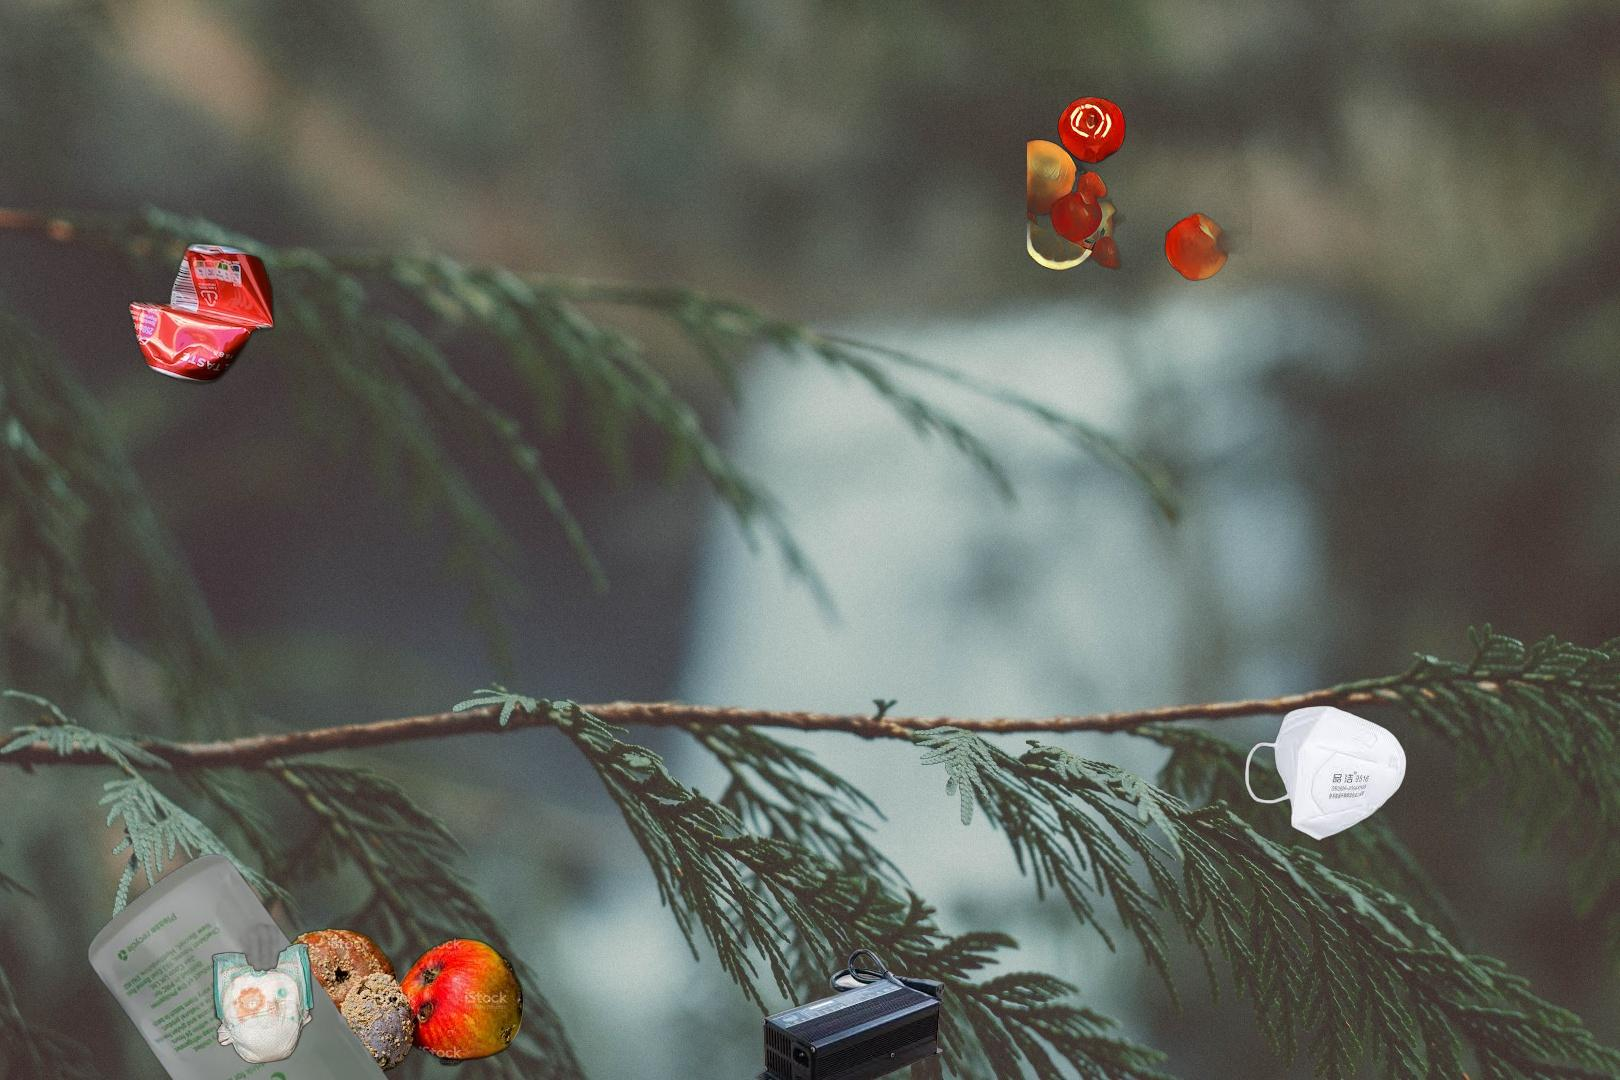battery: (755, 946, 946, 1080)
biological: (1027, 69, 1252, 294), (262, 925, 532, 1078)
glass: (83, 853, 403, 1080)
metal-cans: (124, 237, 278, 389)
trash: (1242, 703, 1445, 843), (210, 900, 316, 1066)
